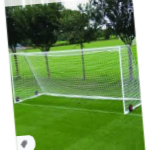goals: (9, 44, 140, 114)
